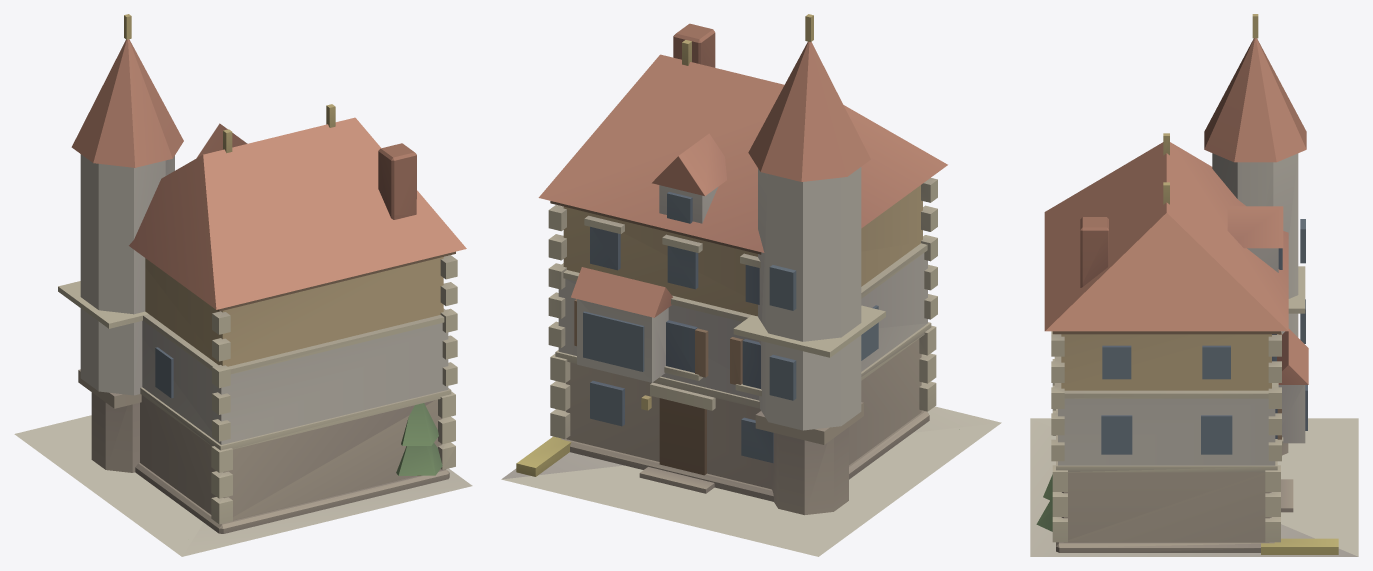
The model's file is house_patricians.v2.glb.
3 renders of one model, left to right at view 1: azimuth 30°, elevation 25°; view 2: azimuth 150°, elevation 25°; view 3: azimuth 270°, elevation 25°, orthographic. The views are drawn at different scales.
Parts seen in each view (by area): view 1: house_patricians; view 2: house_patricians; view 3: house_patricians.
Boxes of the visible parts, x1,y1,x2,y2 form: house_patricians: [14, 14, 472, 556]; house_patricians: [501, 14, 1001, 556]; house_patricians: [1030, 14, 1358, 556].
Size of the model in its own units: 2.98 by 4.41 by 2.96.
